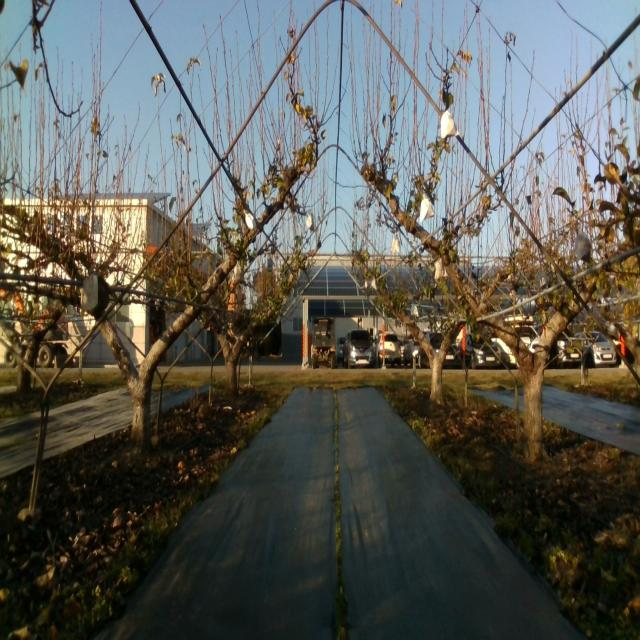pearbags: (574, 224, 590, 264), (441, 110, 459, 141), (420, 195, 434, 222), (434, 258, 448, 280)
